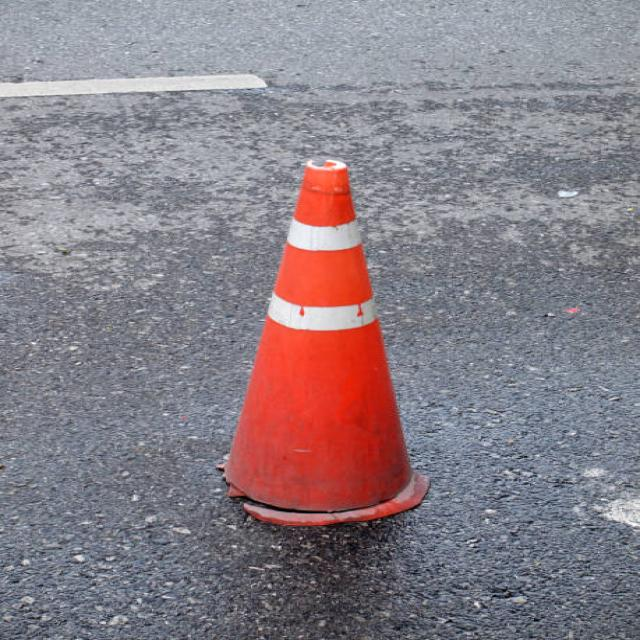Traffic Cone: (176, 136, 464, 535)
